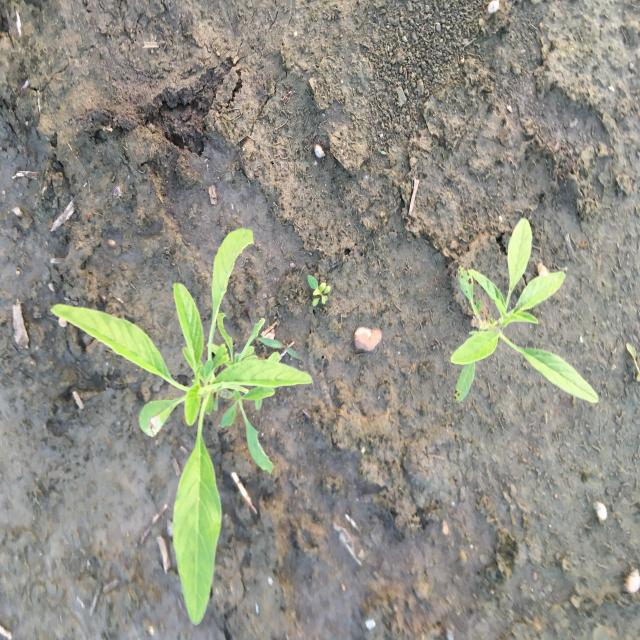Waterhemp: (49, 227, 314, 628), (449, 216, 600, 407)
